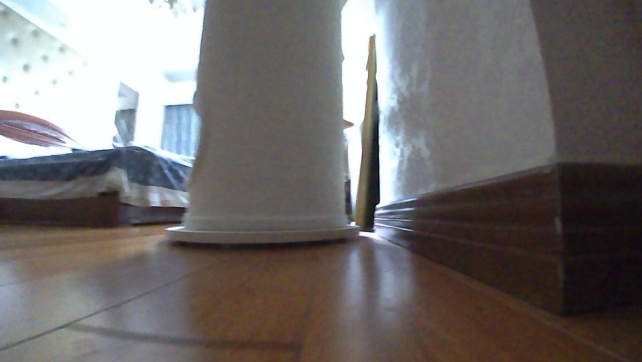bed: (0, 108, 194, 231)
